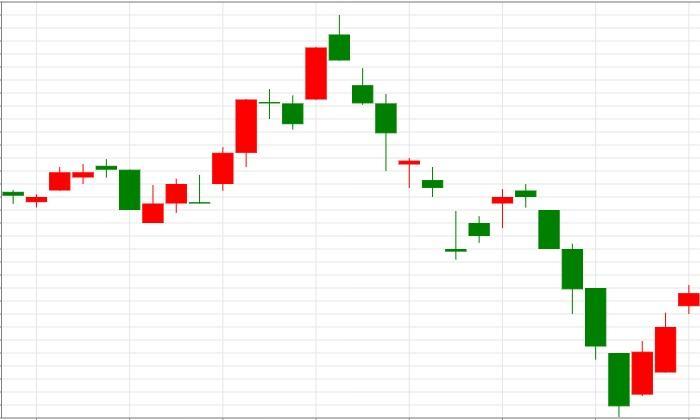three_black_crows_fall: (445, 183, 606, 359)
